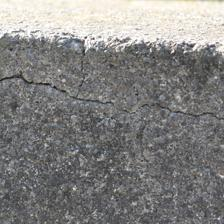Crack: (3, 71, 128, 120), (139, 99, 224, 132)
